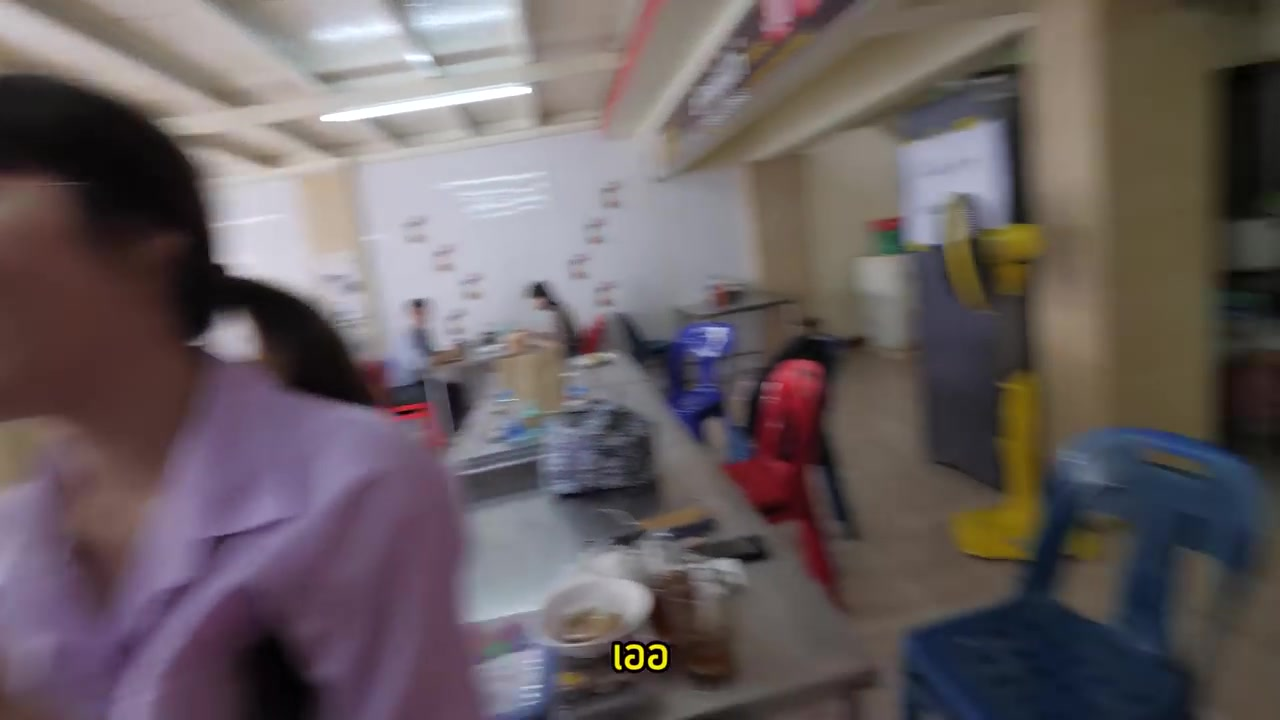text-label: (607, 637, 672, 672)
